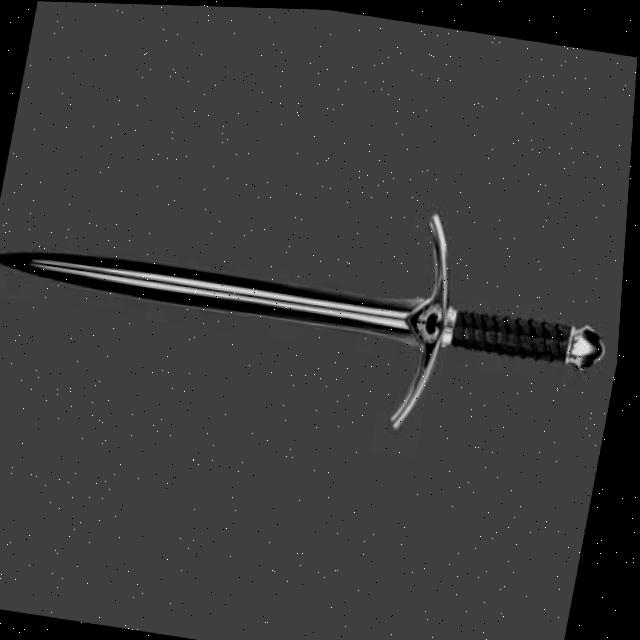knife: (0, 136, 629, 466)
